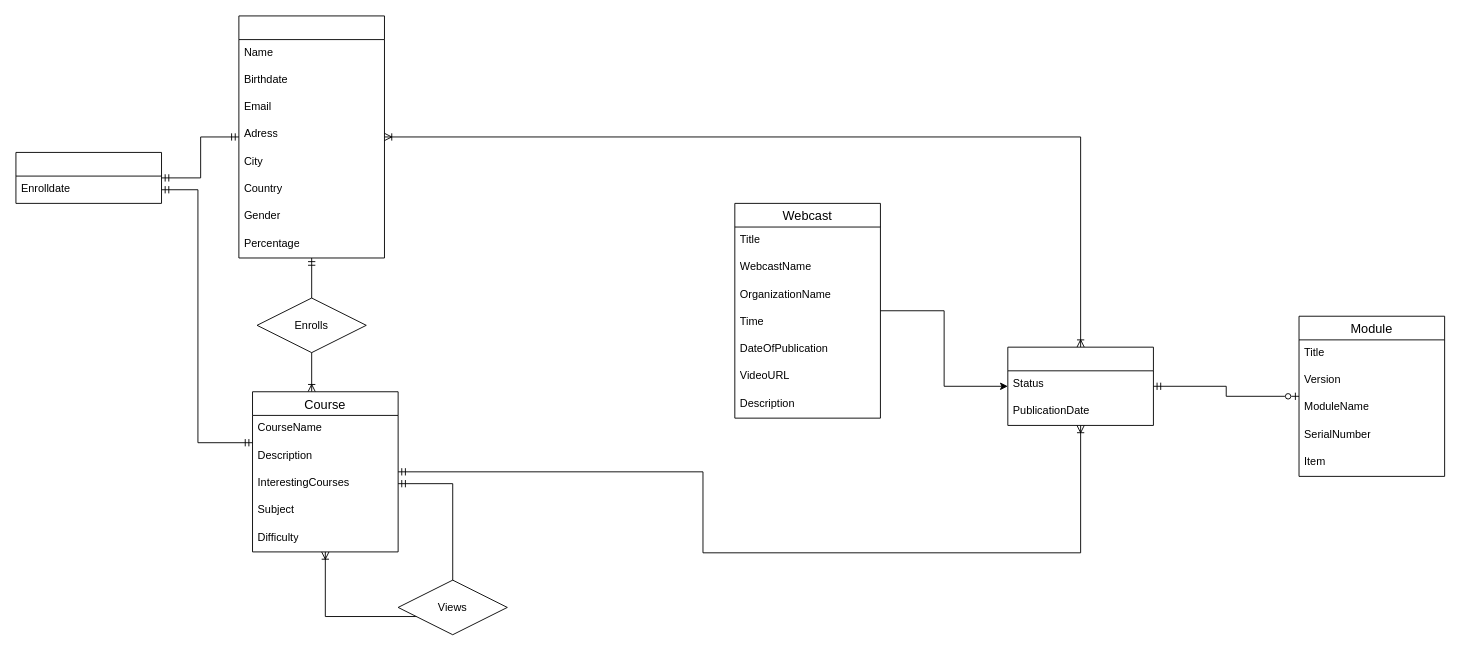
Image size: 1461x651. Some labels were removed from this diagram. The box of each missing label's shape, as (x1, y1, x2, y2) in pixels:
ContentItem: (1007, 346, 1153, 425)
Enrollment: (15, 152, 162, 203)
Student: (238, 15, 384, 258)
